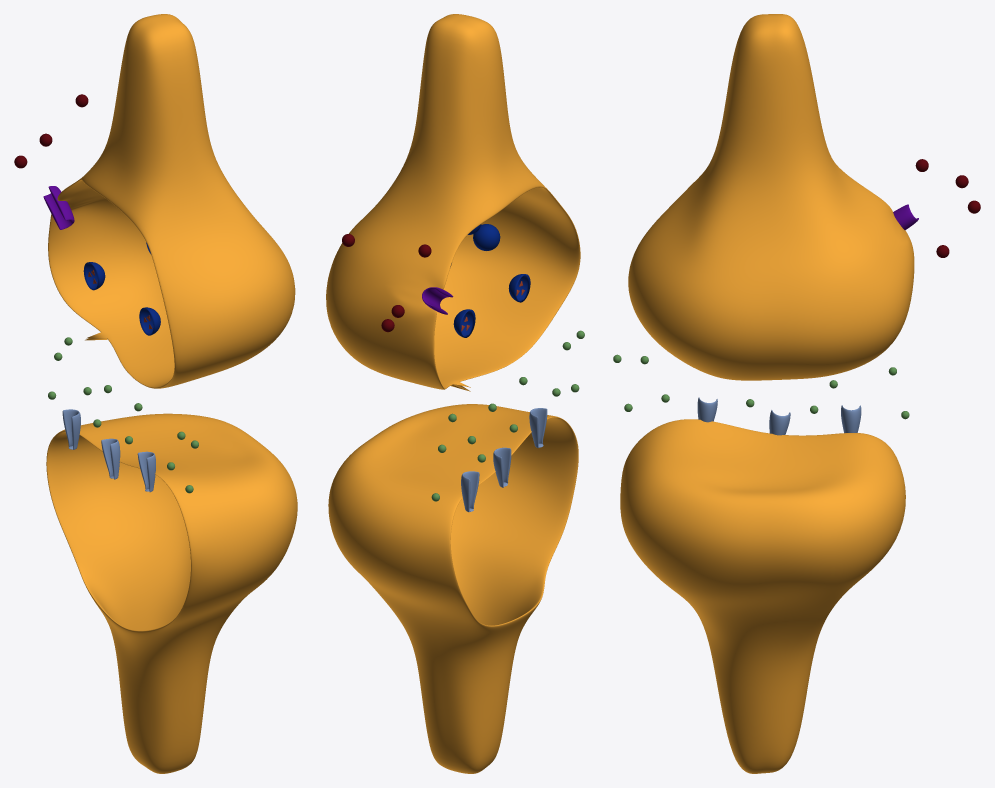
File: synapse.gltf
3 views of the same model, side by side, from view 1: azimuth 30°, elevation 25°; view 2: azimuth 150°, elevation 25°; view 3: azimuth 270°, elevation 25° (orthographic).
Visible parts, largest first — view 1: synapse unten, synapse oben, Kanal1, Kanal1.002, Kanal1.001, Kanal1.003; view 2: synapse unten, synapse oben, Kanal1.001, Sphere.020, Kanal1.002, Kanal1.003, Kanal1, vesikel.002, vesikel.003; view 3: synapse oben, synapse unten.
Part boxes in pixels (box(x1,y1,x2,y2)): synapse unten: box(46, 413, 297, 773); synapse oben: box(48, 14, 295, 388); Kanal1: box(43, 186, 74, 229); Kanal1.002: box(101, 438, 120, 479); Kanal1.001: box(62, 409, 80, 449); Kanal1.003: box(137, 451, 155, 492); synapse unten: box(328, 404, 578, 773); synapse oben: box(326, 14, 580, 391); Kanal1.001: box(461, 471, 479, 512); Sphere.020: box(473, 224, 500, 250); Kanal1.002: box(493, 447, 511, 487); Kanal1.003: box(529, 408, 547, 448); Kanal1: box(422, 287, 453, 314); vesikel.002: box(508, 274, 530, 302); vesikel.003: box(453, 309, 475, 337); synapse oben: box(628, 14, 914, 380); synapse unten: box(620, 419, 905, 773).
Bounding box in the file's own units: 4.78 × 20.73 × 9.22.
